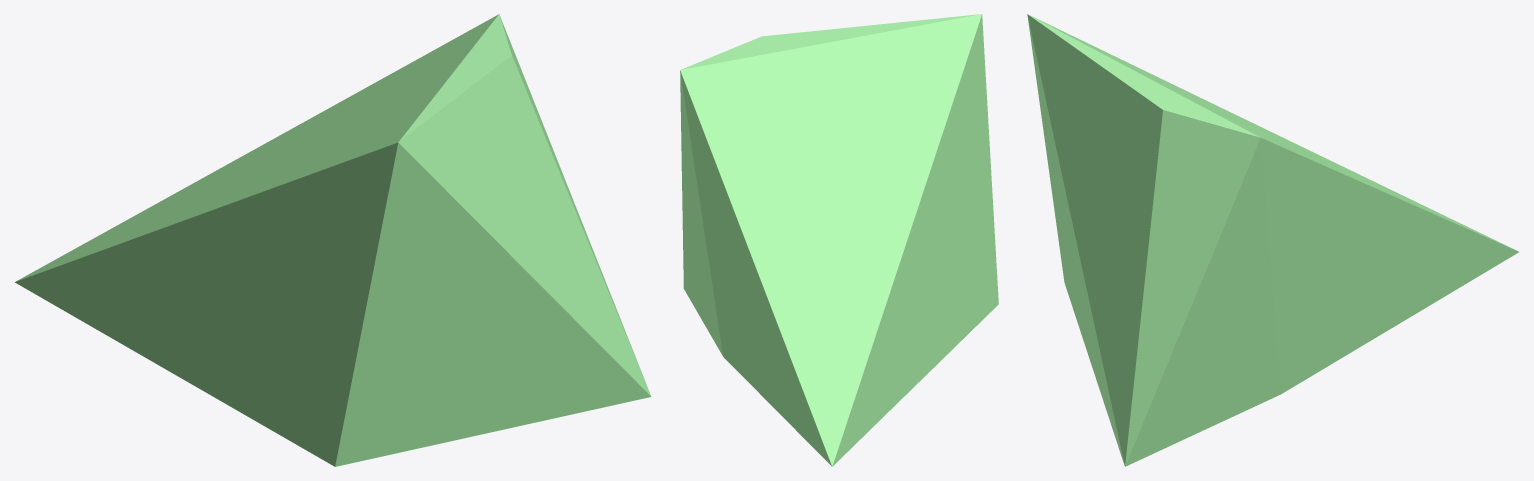
Rendered from UMIRobot_UMIRobot_link_3_convex_coll_13.dae.
3 renders of one model, left to right at view 1: azimuth 30°, elevation 25°; view 2: azimuth 150°, elevation 25°; view 3: azimuth 270°, elevation 25°, orthographic. The views are drawn at different scales.
Parts seen in each view (by area): view 1: node; view 2: node; view 3: node.
Boxes of the visible parts, x1,y1,x2,y2 form: node: (15, 14, 651, 466); node: (680, 14, 998, 466); node: (1027, 14, 1518, 466).
Size of the model in its own units: 0.0124 by 0.0107 by 0.0148.
